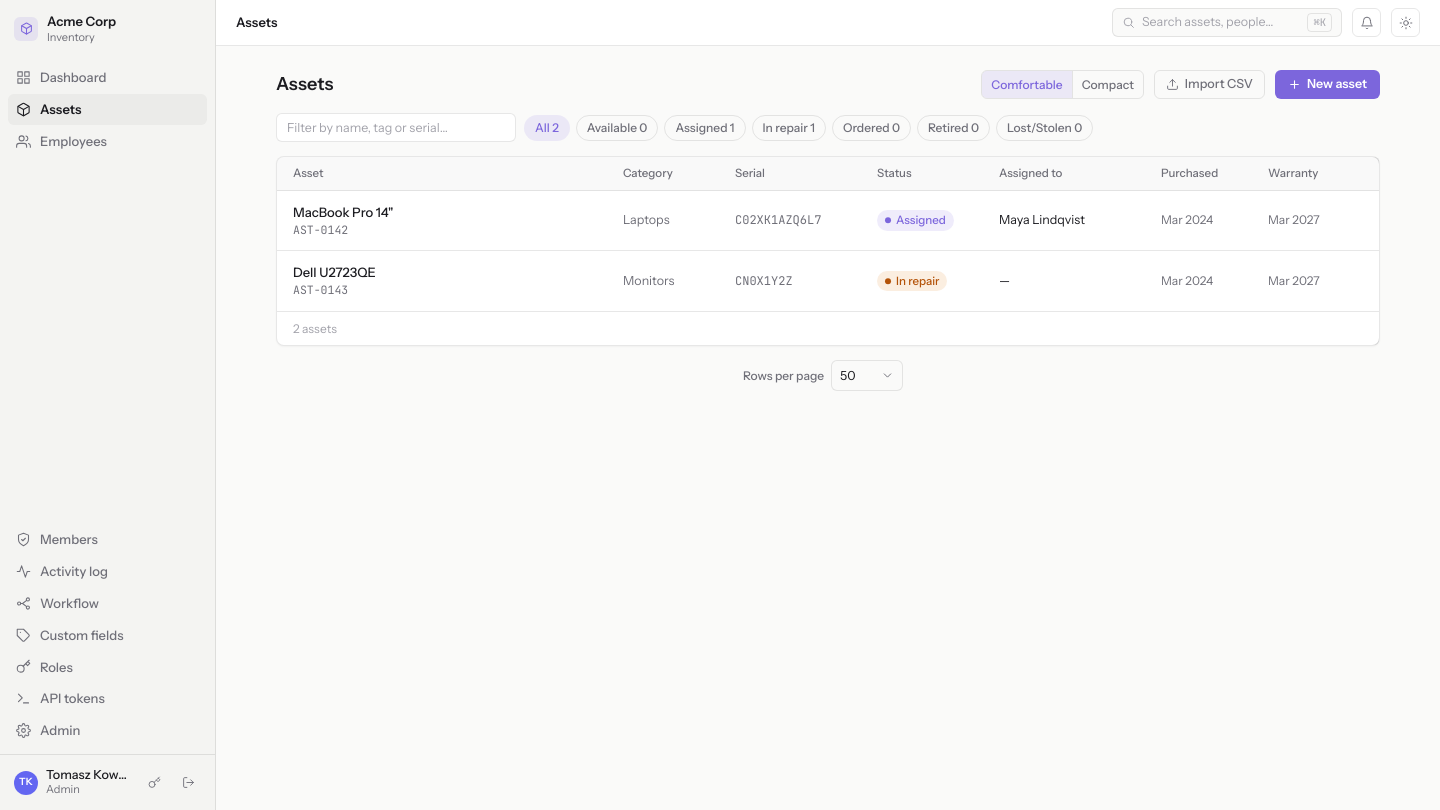
Test: step 1 — the file › names the columns and marks the required ones
Expected: the heading "Assets" is shown, [276,72,333,98]
Click the button "Import CSV" at {"x": 1209, "y": 84}, box [1154,70,1265,99]
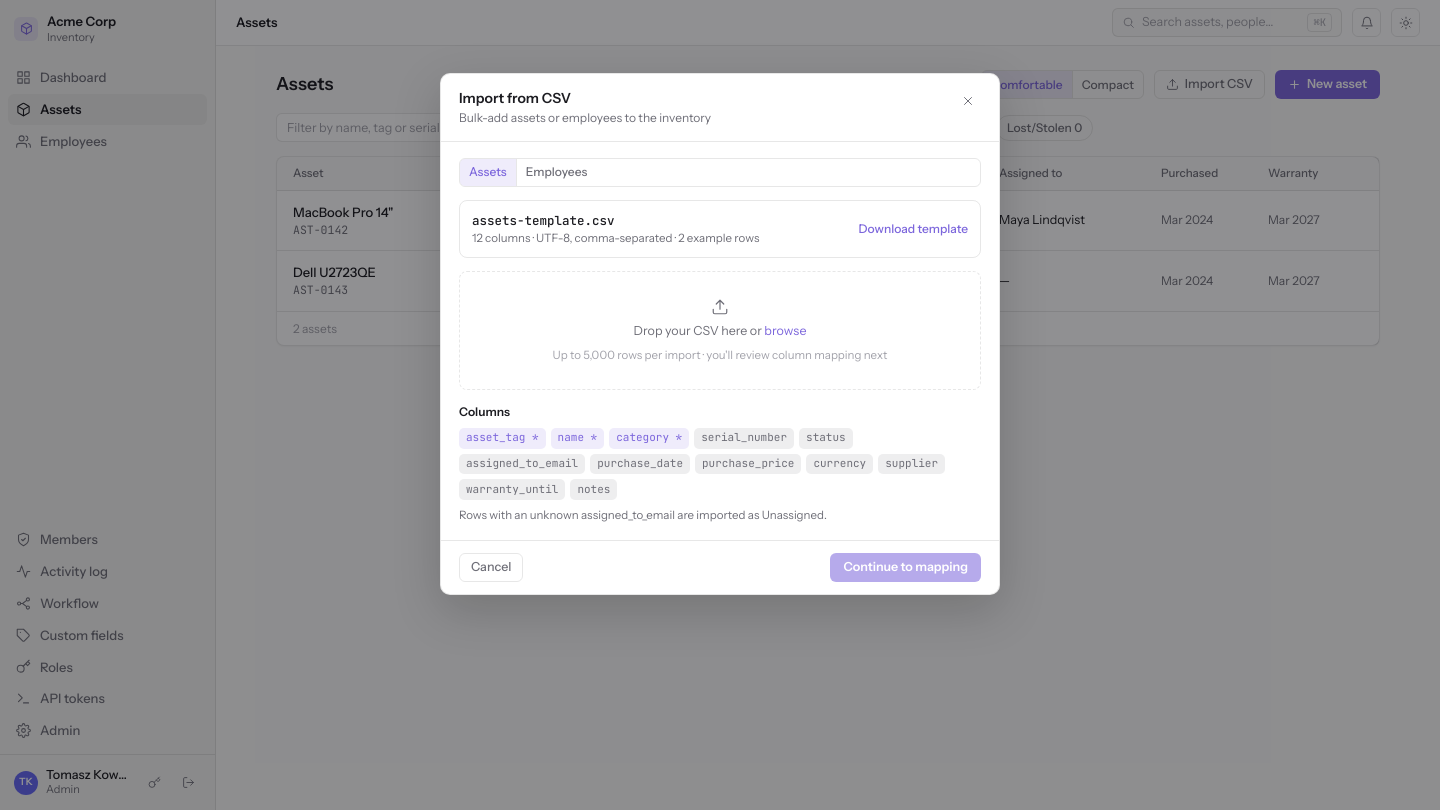
Expected: the text "asset_tag *" is shown, [459,428,546,448]
Expected: the text "serial_number" is shown, [694,428,794,448]
Expected: the text "unknown assigned_to_email are imported as Unassigned" is shown, [459,508,827,522]
